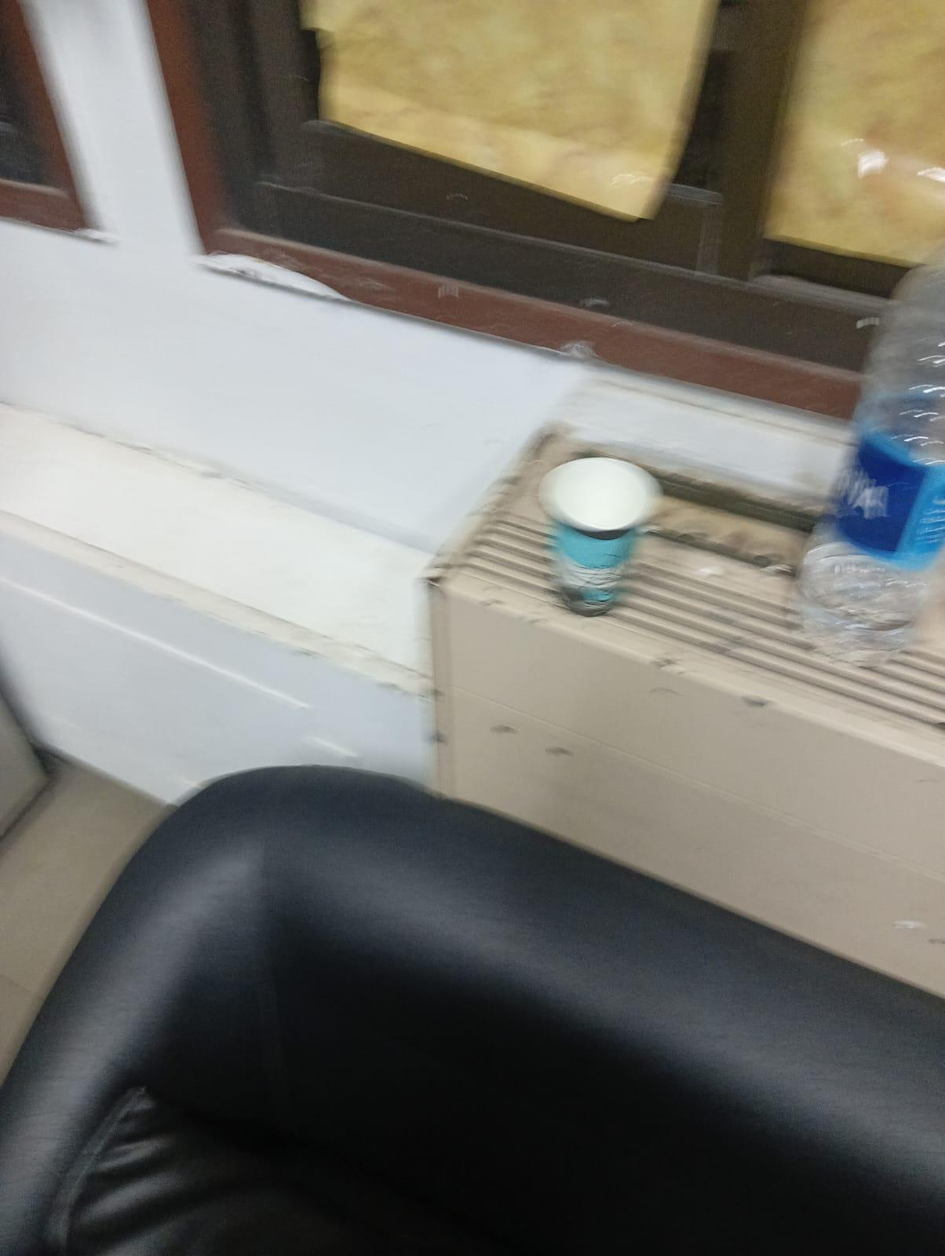cup: (539, 457, 659, 614)
